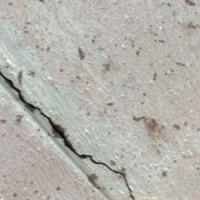crack: (1, 60, 146, 198)
